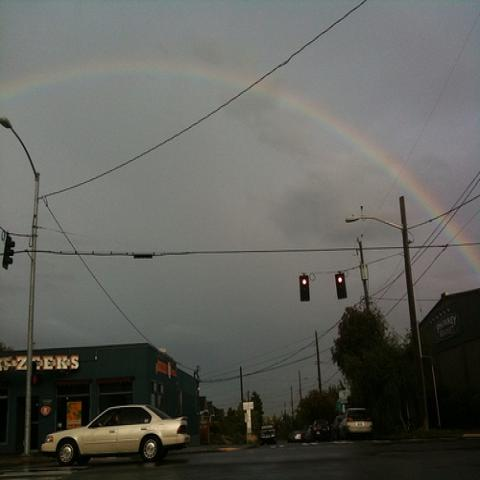car: (42, 399, 195, 466), (336, 407, 374, 442), (259, 424, 276, 445)
